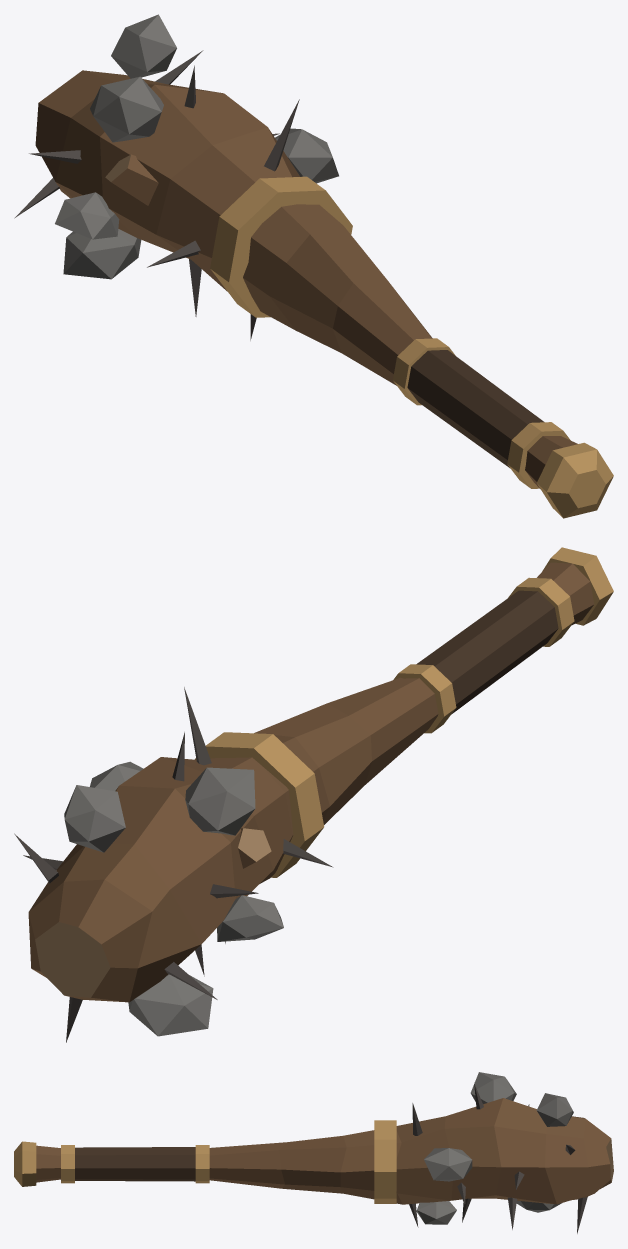
File: held-club.glb
3 renders of one model, top to bottom at view 1: azimuth 30°, elevation 25°; view 2: azimuth 150°, elevation 25°; view 3: azimuth 270°, elevation 25°, orthographic. The views are drawn at different scales.
Visible parts, largest first — view 1: club_log, grip_wrap, band_head, pommel, stone_02, stone_03, stone_05, stone_06, stone_01, band_grip_low, branch_stub, band_grip_high; view 2: club_log, grip_wrap, band_head, stone_02, stone_03, stone_05, stone_06, pommel, band_grip_high, band_grip_low, branch_stub, stone_01; view 3: club_log, grip_wrap, band_head, stone_01, stone_02, pommel, stone_05, stone_04, band_grip_high, band_grip_low, stone_03.
Boxes of the visible parts, x1,y1,x2,y2 form: club_log: [35, 70, 577, 488]; grip_wrap: [407, 350, 544, 467]; band_head: [210, 176, 352, 317]; pommel: [537, 442, 613, 518]; stone_02: [90, 76, 163, 142]; stone_03: [63, 229, 141, 279]; stone_05: [111, 14, 176, 78]; stone_06: [55, 192, 119, 239]; stone_01: [275, 128, 338, 183]; band_grip_low: [507, 422, 570, 488]; branch_stub: [105, 154, 158, 205]; band_grip_high: [393, 338, 455, 405]; club_log: [28, 562, 594, 1002]; grip_wrap: [416, 590, 558, 714]; band_head: [195, 732, 324, 877]; stone_02: [185, 767, 255, 835]; stone_03: [128, 974, 213, 1036]; stone_05: [64, 785, 125, 852]; stone_06: [217, 895, 283, 941]; pommel: [542, 547, 613, 625]; band_grip_high: [393, 664, 456, 733]; band_grip_low: [508, 577, 574, 646]; branch_stub: [238, 828, 271, 868]; stone_01: [90, 761, 143, 791]; club_log: [36, 1098, 613, 1204]; grip_wrap: [75, 1147, 195, 1181]; band_head: [374, 1120, 396, 1203]; stone_01: [424, 1148, 472, 1181]; stone_02: [470, 1072, 516, 1104]; pommel: [14, 1141, 36, 1186]; stone_05: [536, 1093, 573, 1126]; stone_04: [416, 1201, 456, 1224]; band_grip_high: [195, 1145, 209, 1183]; band_grip_low: [61, 1145, 74, 1183]; stone_03: [516, 1200, 561, 1212].
Size of what is drawn, in the model's own units: 0.2584 by 0.2512 by 0.9447.
